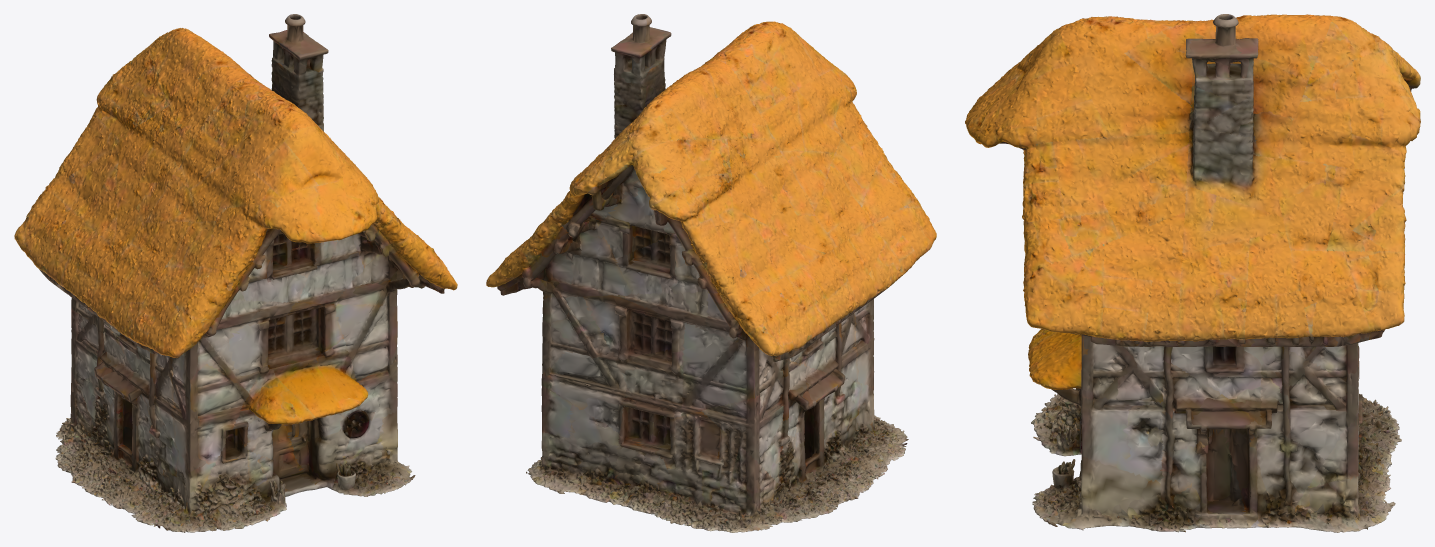
File: building12.glb
3 renders of one model, left to right at view 1: azimuth 30°, elevation 25°; view 2: azimuth 150°, elevation 25°; view 3: azimuth 270°, elevation 25°, orthographic. The views are drawn at different scales.
Size of the model in its own units: 1.44 by 1.9 by 1.63.
Materials: 1 (1 with a texture image).
